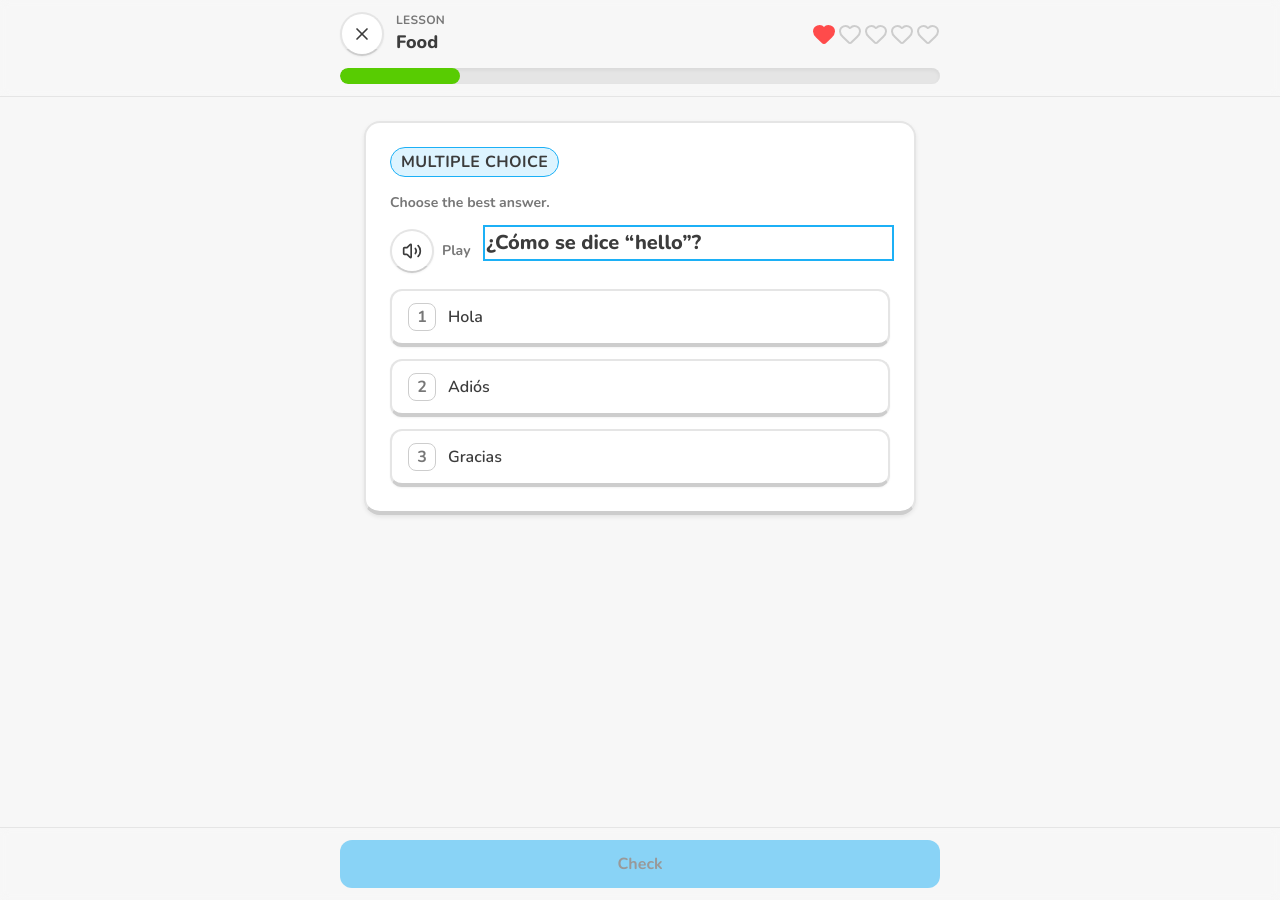
Test: LessonPlayer five-exercise journey › updates hearts from wrong-answer response and fails without completion
expect the heading "¿Cómo se dice “hello”?" is shown: met, box left=486, top=229, right=701, bottom=256
Click the radio button labelled "Adiós" at (469, 387), box left=390, top=359, right=890, bottom=417
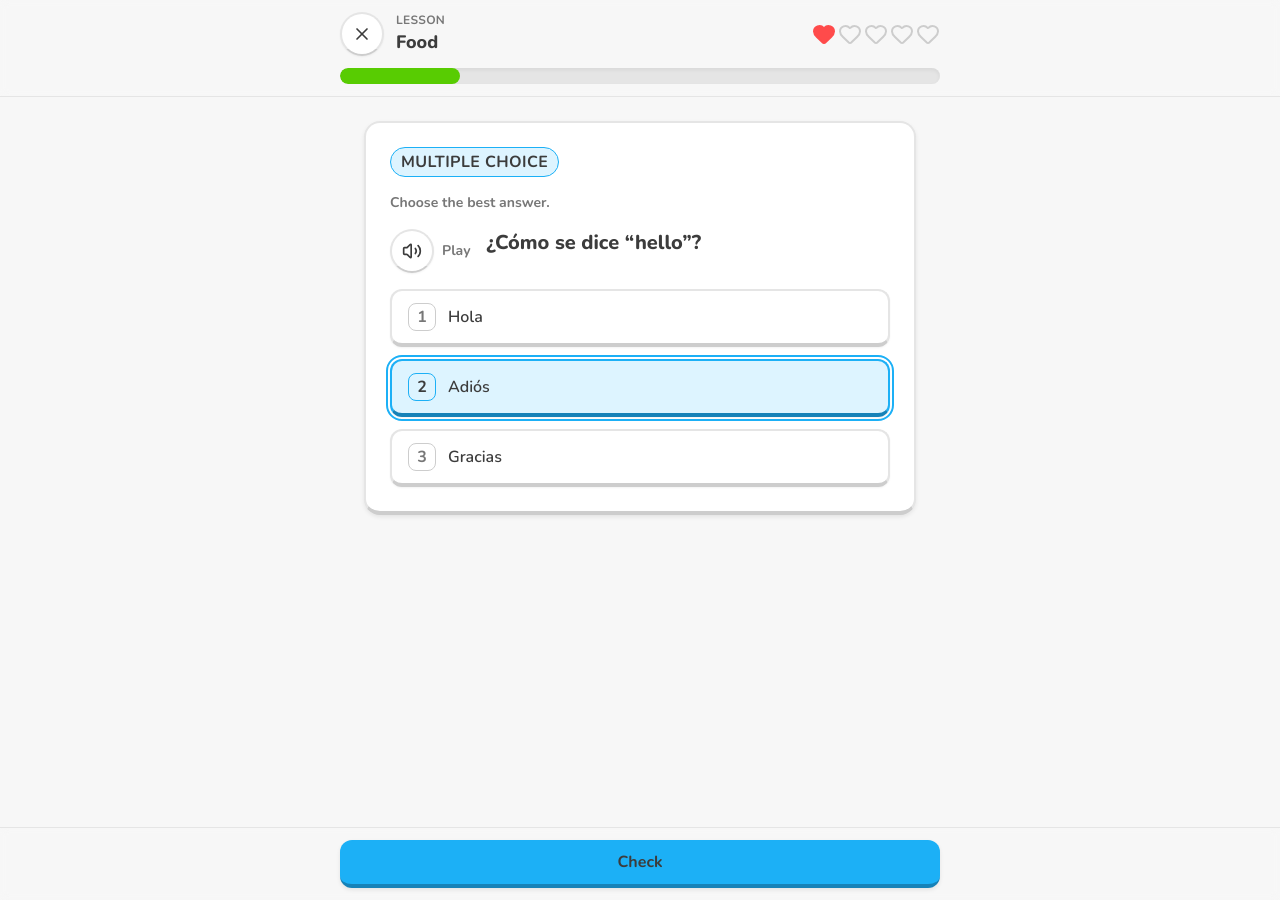
Click the button "Check" at (640, 864), box left=340, top=840, right=940, bottom=888
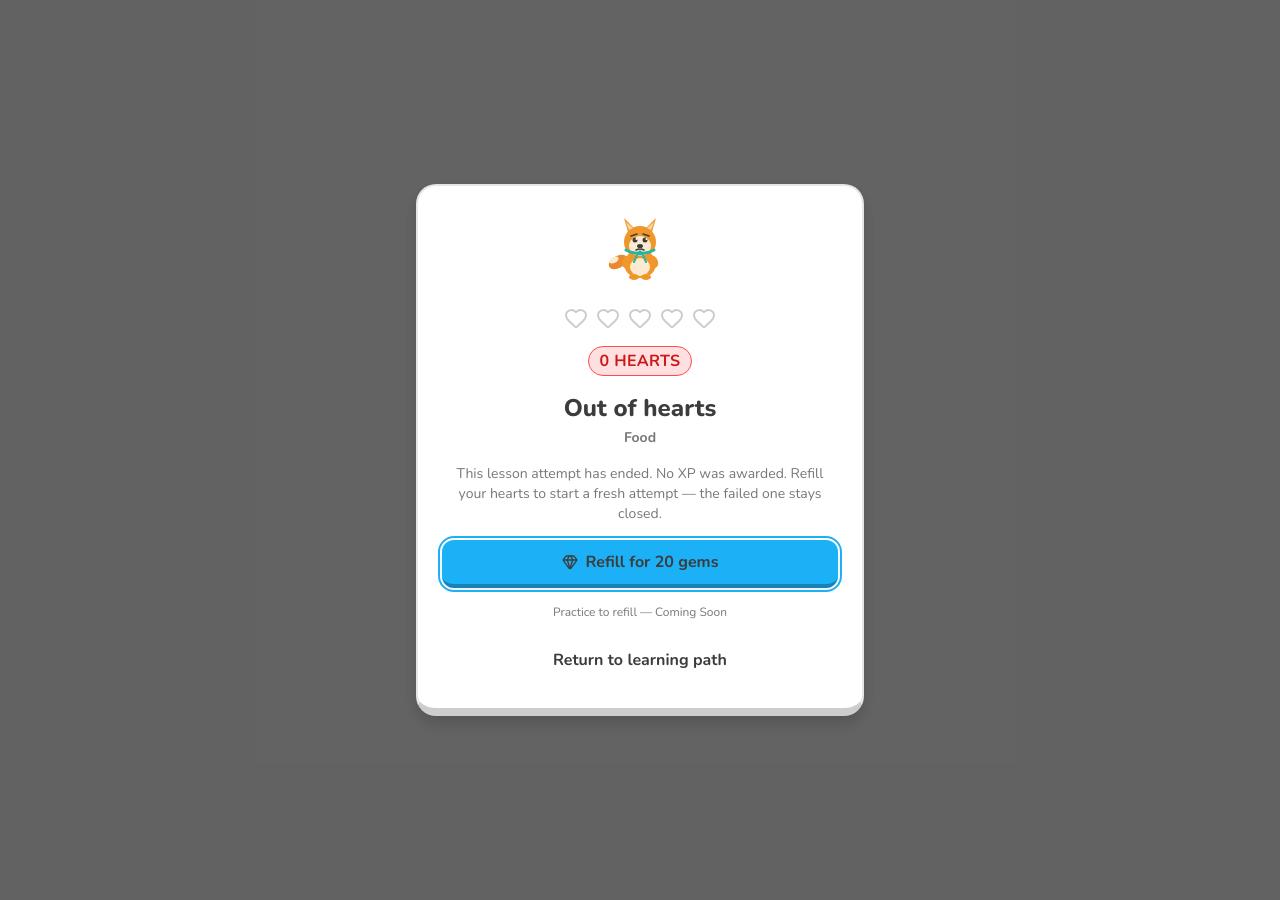
expect the heading "Out of hearts" is shown: met, box left=564, top=392, right=716, bottom=424
expect the dialog is shown: met, box left=416, top=184, right=864, bottom=716
